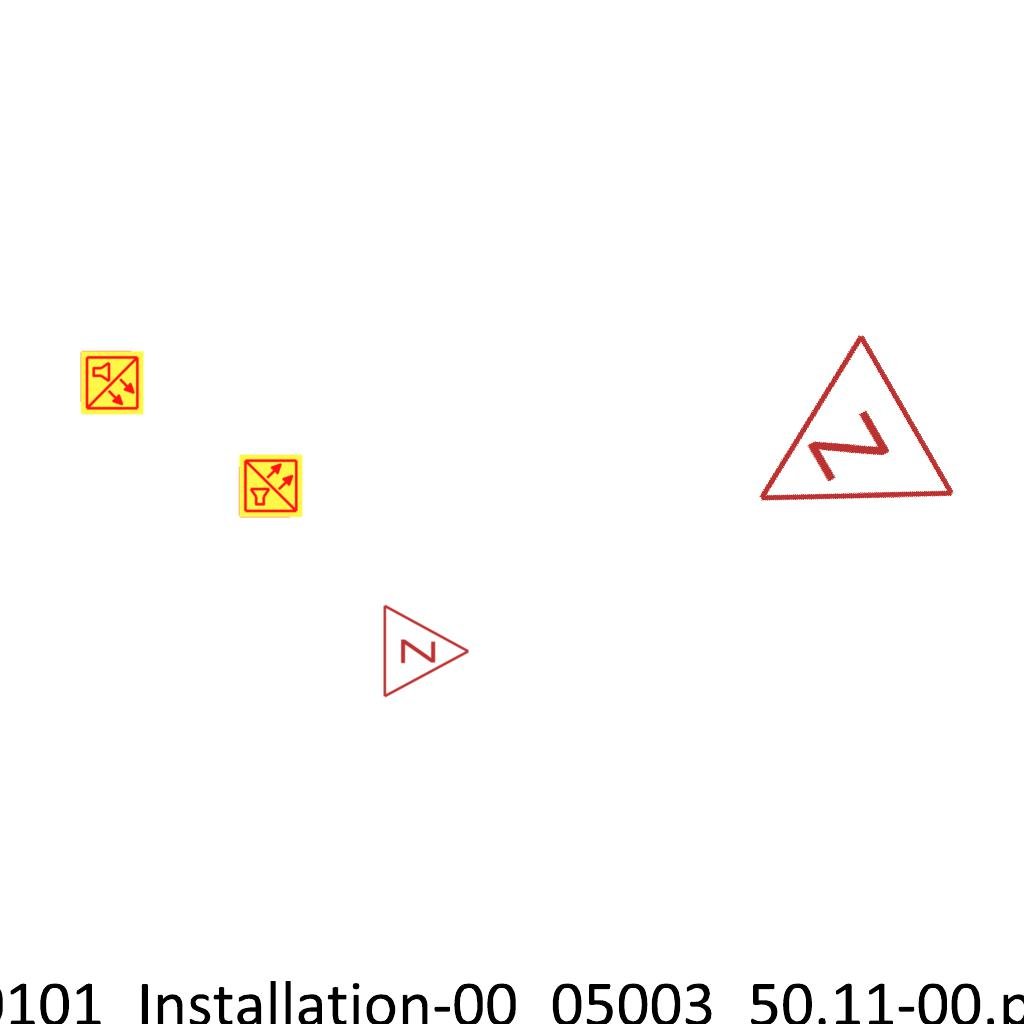OKW_Multisensormelder_(Kombination_optischer_Rauch-Kahlenmonoxid_Waerme-Melder): (238, 453, 304, 519), (79, 350, 145, 416)
Zimmersignalleuchte: (700, 323, 972, 593), (376, 601, 476, 699)
